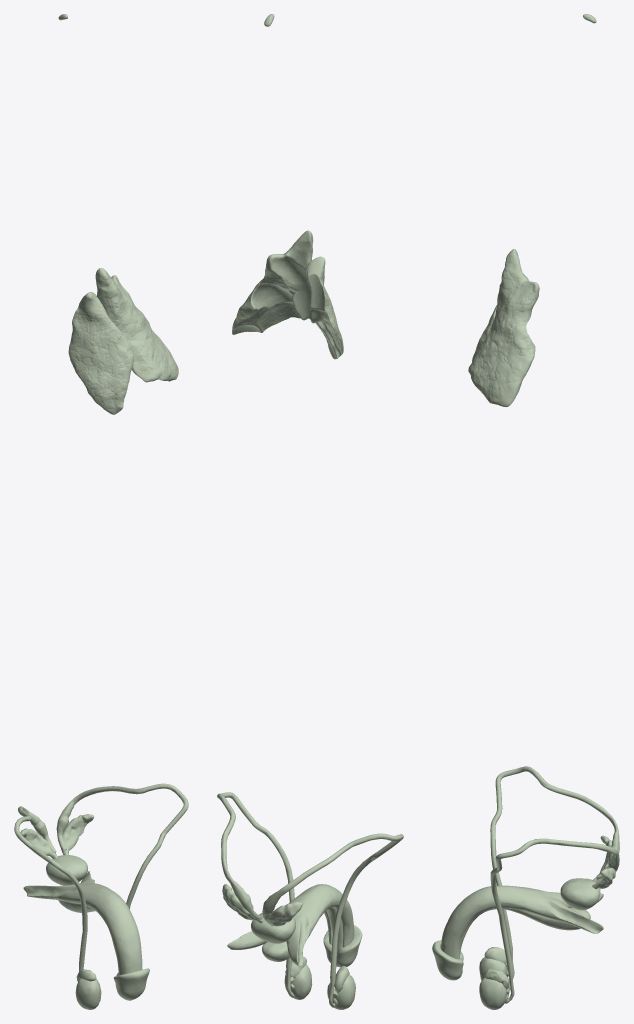
File: endocrine.glb
3 views of the same model, side by side, from view 1: azimuth 30°, elevation 25°; view 2: azimuth 150°, elevation 25°; view 3: azimuth 270°, elevation 25° (orthographic). The views are drawn at different scales.
Visible parts, largest first — view 1: FMA71194, FMA71195, FMA19618, FMA19236, FMA19235, FMA9600, FMA18247, FMA7211, FMA19388, FMA19387; view 2: FMA71195, FMA19618, FMA71194, FMA19235, FMA19236, FMA9600, FMA19617nsn, FMA18247, FMA7212, FMA19387, FMA7211, FMA19388; view 3: FMA71195, FMA19618, FMA19235, FMA19236, FMA9600, FMA18247, FMA7212, FMA19617nsn.
Boxes of the visible parts, left/top/right/bottom form: FMA71194: left=68, top=292, right=133, bottom=414; FMA71195: left=95, top=268, right=178, bottom=382; FMA19618: left=23, top=871, right=142, bottom=975; FMA19236: left=56, top=783, right=188, bottom=908; FMA19235: left=14, top=806, right=87, bottom=971; FMA9600: left=46, top=855, right=87, bottom=885; FMA18247: left=113, top=968, right=149, bottom=999; FMA7211: left=75, top=979, right=101, bottom=1009; FMA19388: left=61, top=814, right=93, bottom=855; FMA19387: left=20, top=828, right=57, bottom=858; FMA71195: left=232, top=230, right=313, bottom=334; FMA19618: left=227, top=884, right=354, bottom=966; FMA71194: left=292, top=256, right=343, bottom=359; FMA19235: left=262, top=833, right=403, bottom=1007; FMA19236: left=217, top=792, right=294, bottom=997; FMA9600: left=251, top=911, right=295, bottom=943; FMA19617nsn: left=262, top=907, right=343, bottom=961; FMA18247: left=323, top=925, right=362, bottom=967; FMA7212: left=284, top=964, right=312, bottom=999; FMA19387: left=266, top=901, right=302, bottom=926; FMA7211: left=327, top=974, right=355, bottom=1009; FMA19388: left=222, top=884, right=263, bottom=923; FMA71195: left=468, top=249, right=539, bottom=406; FMA19618: left=440, top=885, right=603, bottom=959; FMA19235: left=490, top=766, right=619, bottom=981; FMA19236: left=490, top=838, right=619, bottom=1003; FMA9600: left=560, top=878, right=600, bottom=910; FMA18247: left=432, top=940, right=463, bottom=980; FMA7212: left=479, top=977, right=506, bottom=1009; FMA19617nsn: left=460, top=907, right=590, bottom=954.
Bounding box in the file's own units: 0.1577 × 0.8654 × 0.1491.
